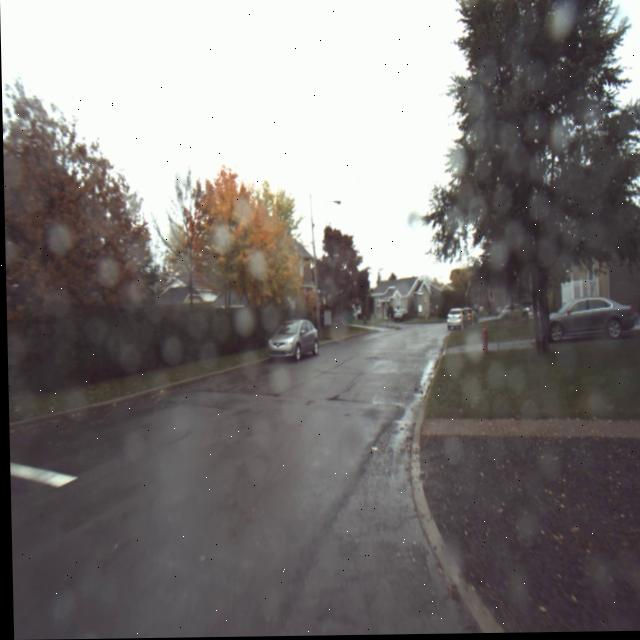car: (259, 308, 321, 364)
